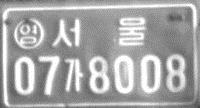0: (139, 53, 162, 94), (13, 55, 36, 95), (113, 54, 135, 95)
7: (36, 54, 62, 97)
8: (87, 54, 110, 94), (165, 52, 186, 93)
가: (62, 57, 84, 94)
서울_D: (50, 14, 147, 49)
영: (14, 17, 45, 51)
